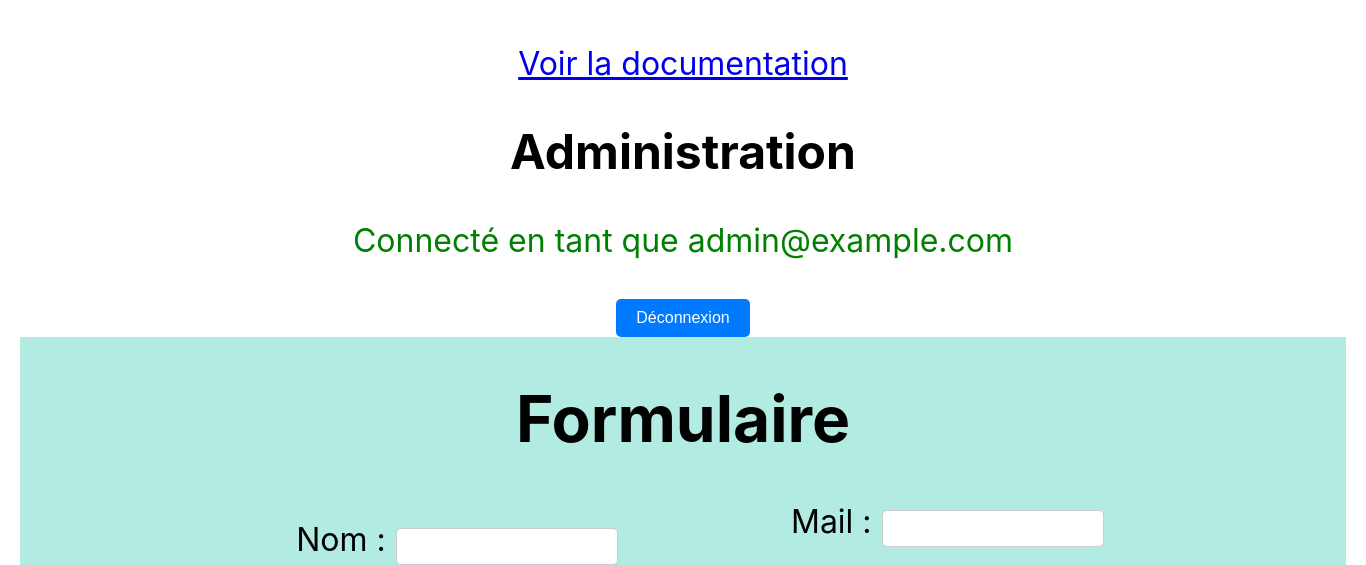
Scenario: App › starts in admin mode when a token and email are stored
(page scrolled)
Expected: the message reads "Connecté en tant que admin@example.com", [353,221,1013,260]
Click the button "Déconnexion". click: (683, 318)
box: [616,299,750,337]
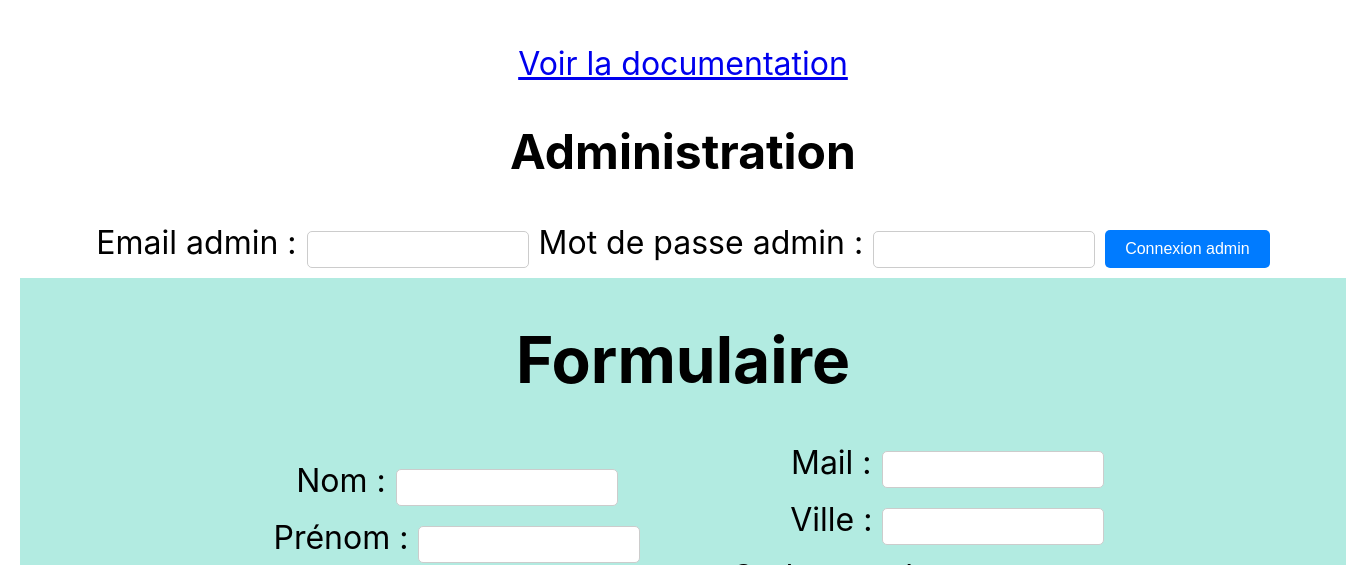
Result: the button "Connexion admin" is shown at [1105,230,1270,268]
